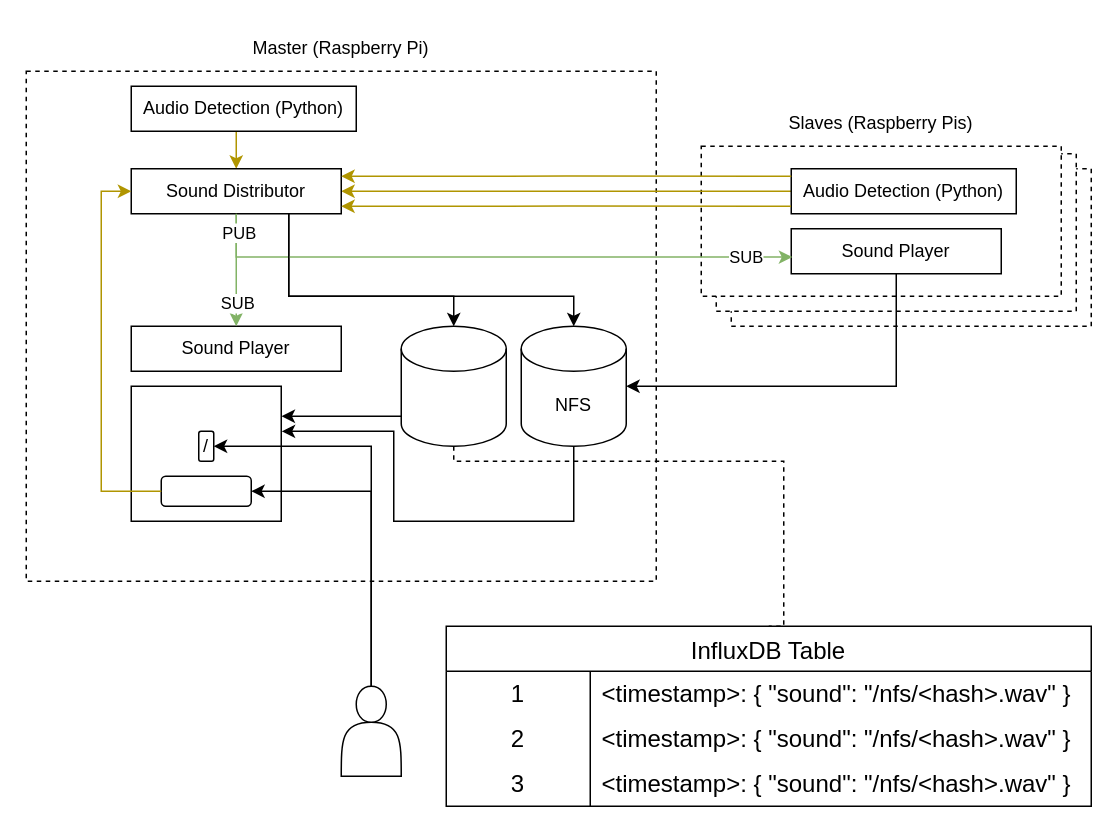
Some shapes in this 1118 by 833 pixel diagram are drawn without their labels. Here are the shapes that lost their labels. From the top down, the box of each, then its label:
(400, 325, 506, 446): InfluxDB
(130, 385, 281, 521): Next.js
(160, 475, 251, 506): /api/replay
